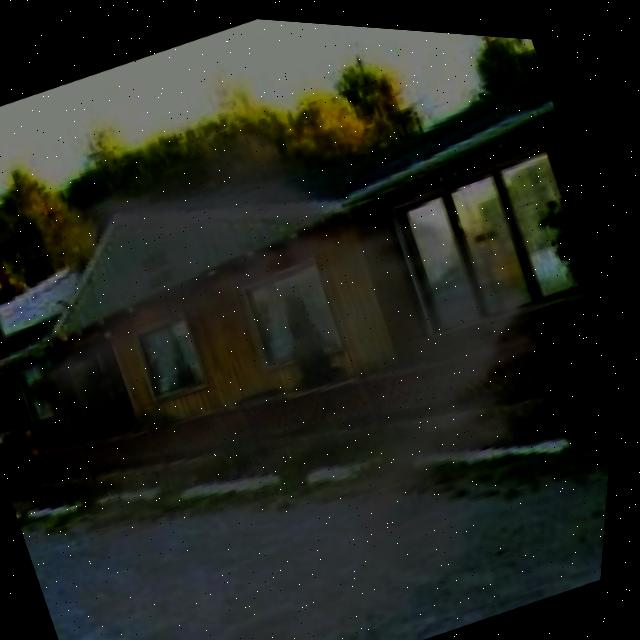Smoke: (0, 26, 618, 640)
